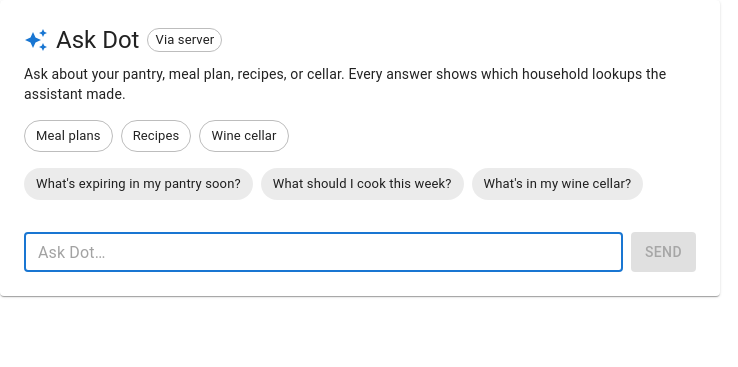
Test case: assistant page › surfaces errors from the ask path
Expected: the heading "Ask Dot" is shown, x1=56 y1=24 x2=140 y2=56
In the field with placeholder "Ask Dot…": (324, 252) x1=24 y1=232 x2=623 y2=272, type "hi"
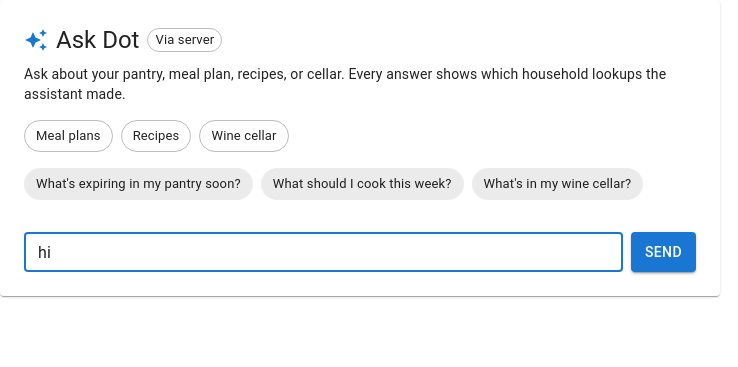
Click the button "Send": (664, 252) x1=631 y1=232 x2=696 y2=272
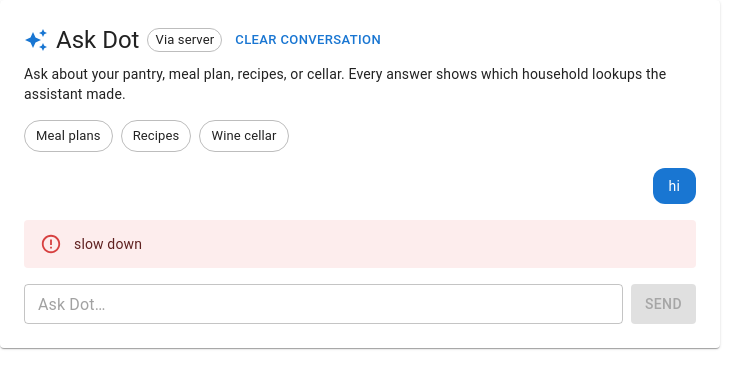
Result: the text "slow down" is shown at x1=74 y1=236 x2=142 y2=252
